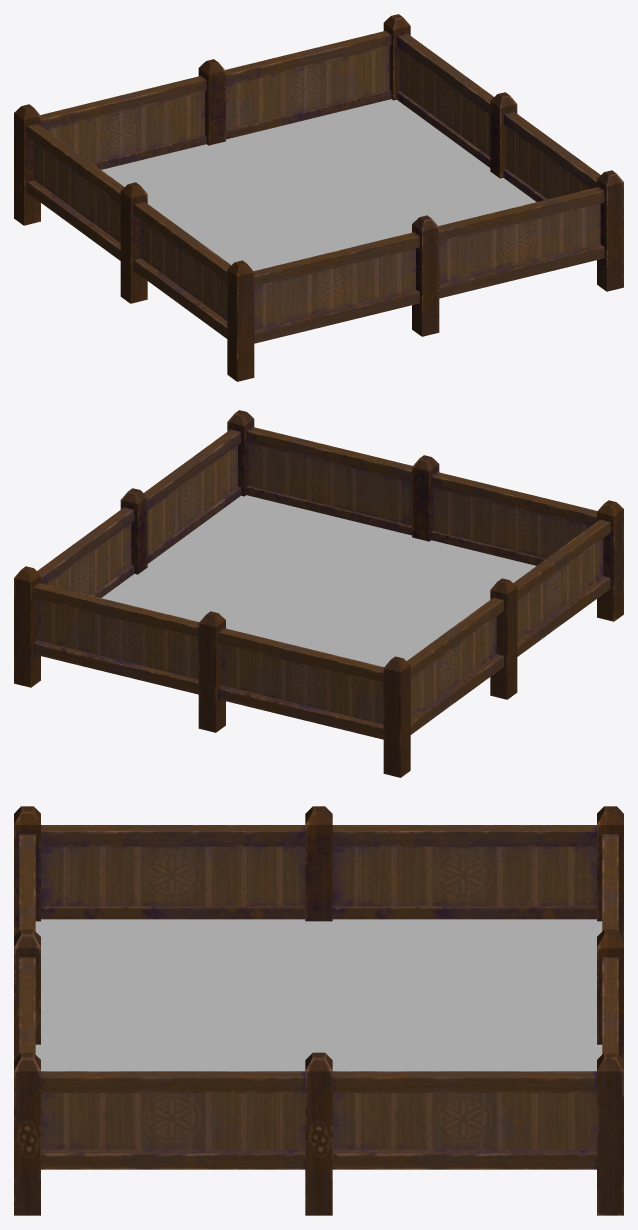
The model's file is Planter 2x2.fbx.
The picture shows the model from 3 angles, top to bottom: view 1: azimuth 30°, elevation 25°; view 2: azimuth 150°, elevation 25°; view 3: azimuth 270°, elevation 25°; orthographic projection. The views are drawn at different scales.
Parts seen in each view (by area): view 1: Planter_2x2; view 2: Planter_2x2; view 3: Planter_2x2.
Part boxes in pixels (x1,y1,x2,y2): Planter_2x2: (14,14,623,381); Planter_2x2: (14,410,623,777); Planter_2x2: (14,806,623,1215).
Size of the model in its own units: 209 by 209 by 58.55.
